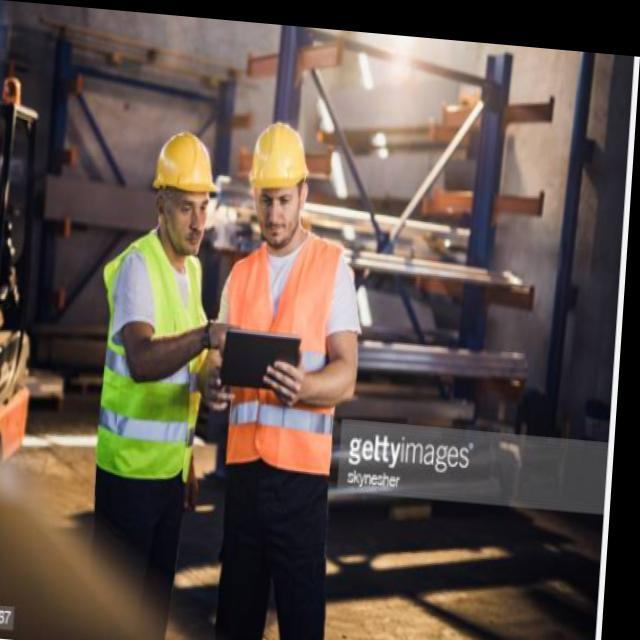helmet: (242, 116, 314, 261), (145, 128, 220, 257)
vest: (195, 222, 359, 488), (83, 223, 216, 492)
